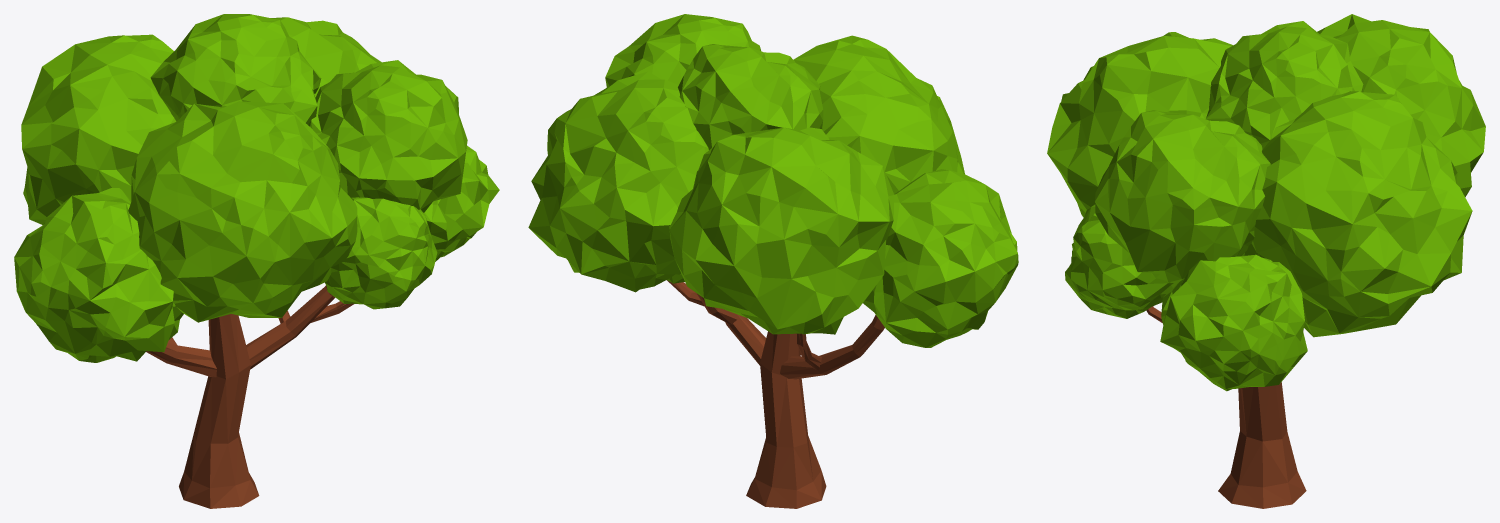
File: Tree_pack.glb
3 renders of one model, left to right at view 1: azimuth 30°, elevation 25°; view 2: azimuth 150°, elevation 25°; view 3: azimuth 270°, elevation 25°, orthographic. The views are drawn at different scales.
Parts seen in each view (by area): view 1: Tree.3; view 2: Tree.3; view 3: Tree.3.
Boxes of the visible parts, box(x1,y1,x2,y2) form: Tree.3: box(14, 14, 499, 508); Tree.3: box(528, 14, 1018, 508); Tree.3: box(1047, 14, 1485, 508).
Size of the model in its own units: 8.18 by 7.62 by 6.38.
